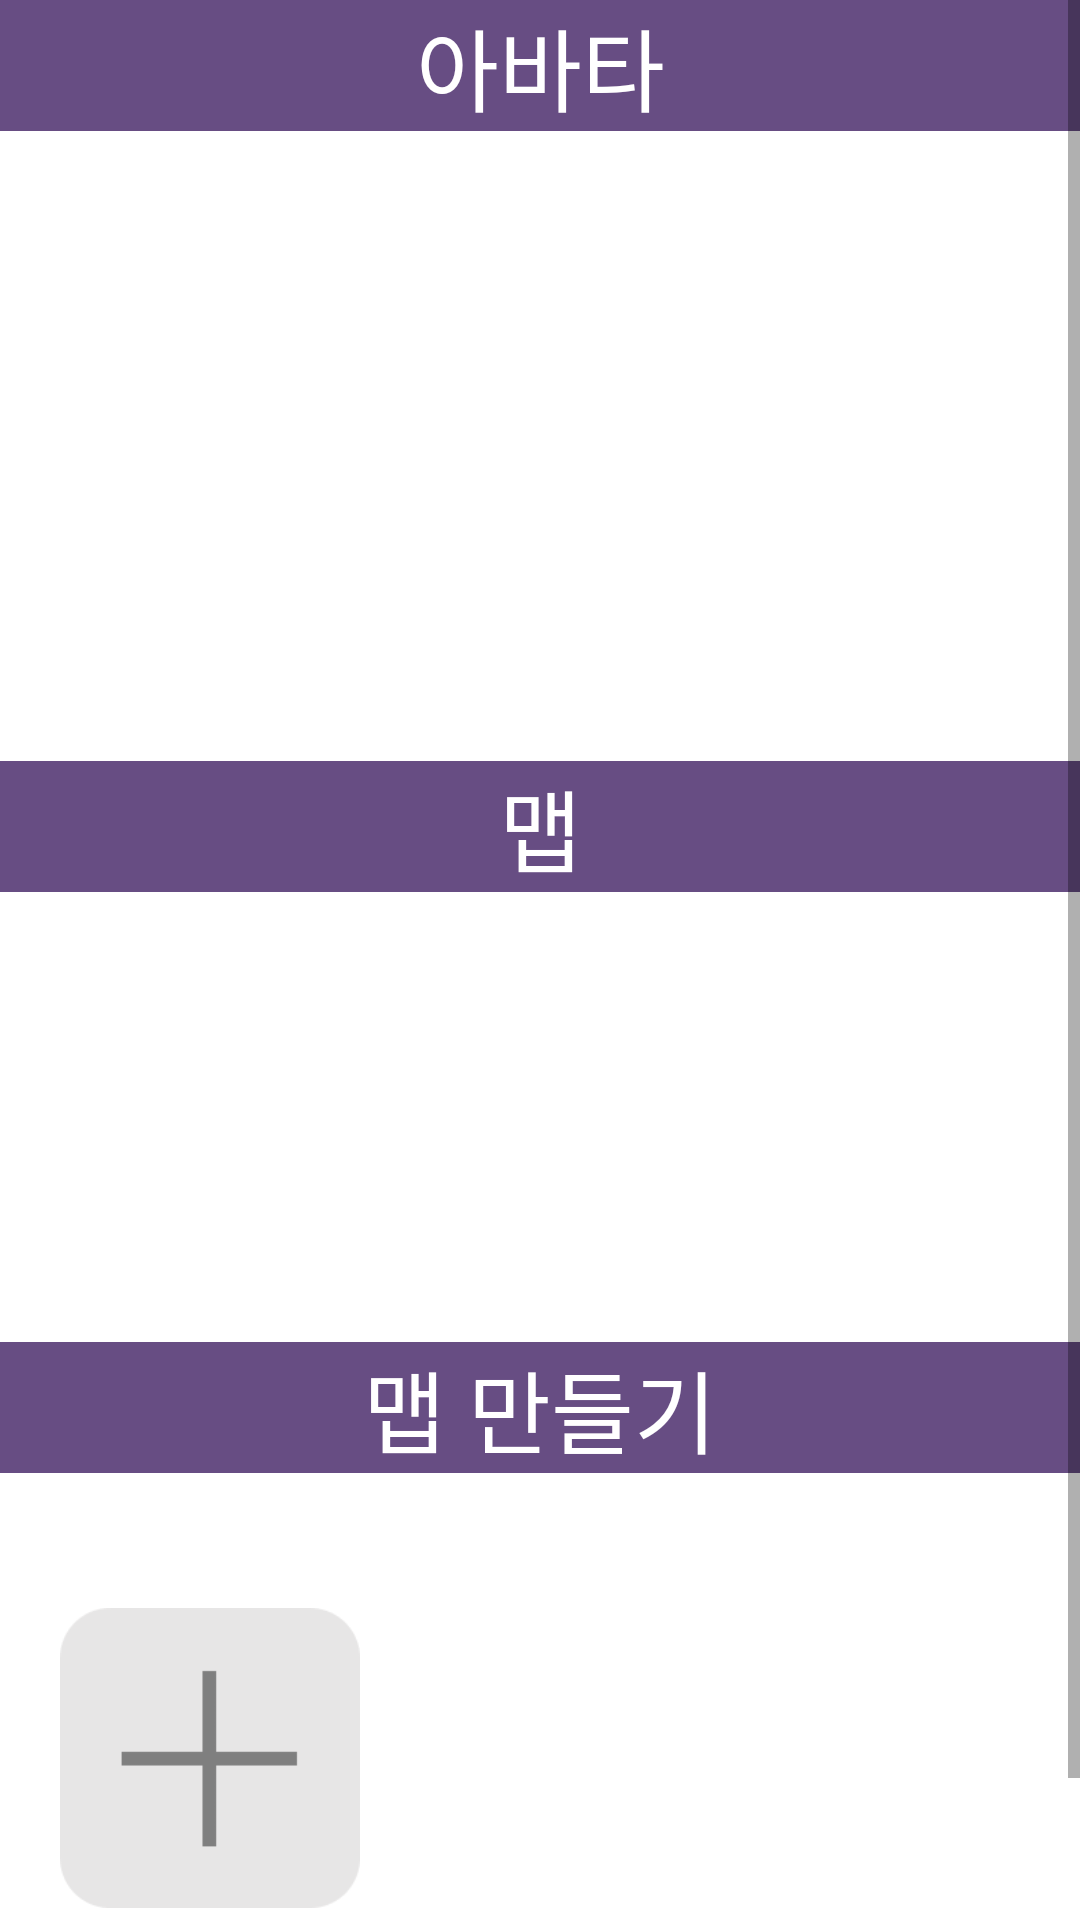

Named icons in this screenshot (1080 × 1920) and their centers, point (x, y):
add: point (210, 1758)
